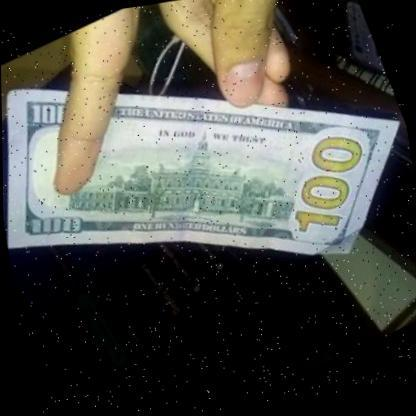one_hundred-back: (0, 0, 416, 396)
